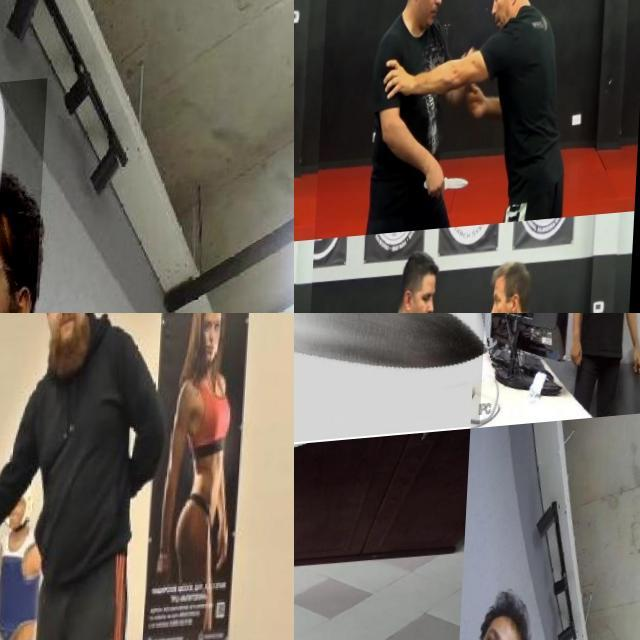-: (294, 313, 494, 463), (0, 82, 79, 313), (294, 513, 338, 640), (0, 504, 35, 561), (424, 176, 476, 204), (294, 183, 321, 222), (632, 364, 640, 399)
